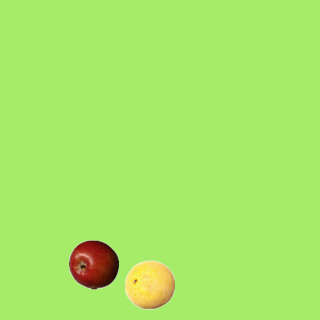Apple Braeburn: (68, 239, 118, 289)
Cantaloupe 1: (124, 259, 174, 309)
